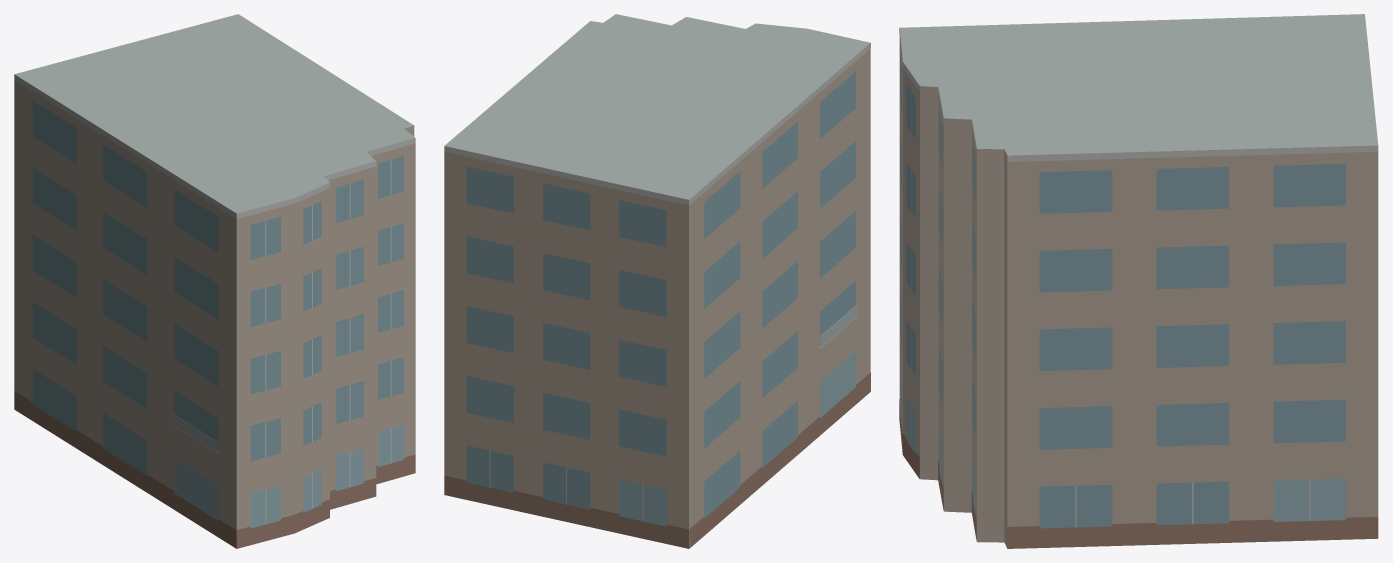
File: survey-upis-32634445.glb
3 renders of one model, left to right at view 1: azimuth 30°, elevation 25°; view 2: azimuth 150°, elevation 25°; view 3: azimuth 270°, elevation 25°, orthographic. The views are drawn at different scales.
Parts seen in each view (by area): view 1: survey-upis-32634445.tmp; view 2: survey-upis-32634445.tmp; view 3: survey-upis-32634445.tmp.
Boxes of the visible parts, left/top/right/bottom form: survey-upis-32634445.tmp: left=14, top=14, right=415, bottom=548; survey-upis-32634445.tmp: left=444, top=14, right=870, bottom=548; survey-upis-32634445.tmp: left=899, top=14, right=1378, bottom=548.
Size of the model in its own units: 11.67 by 15.1 by 16.67.
